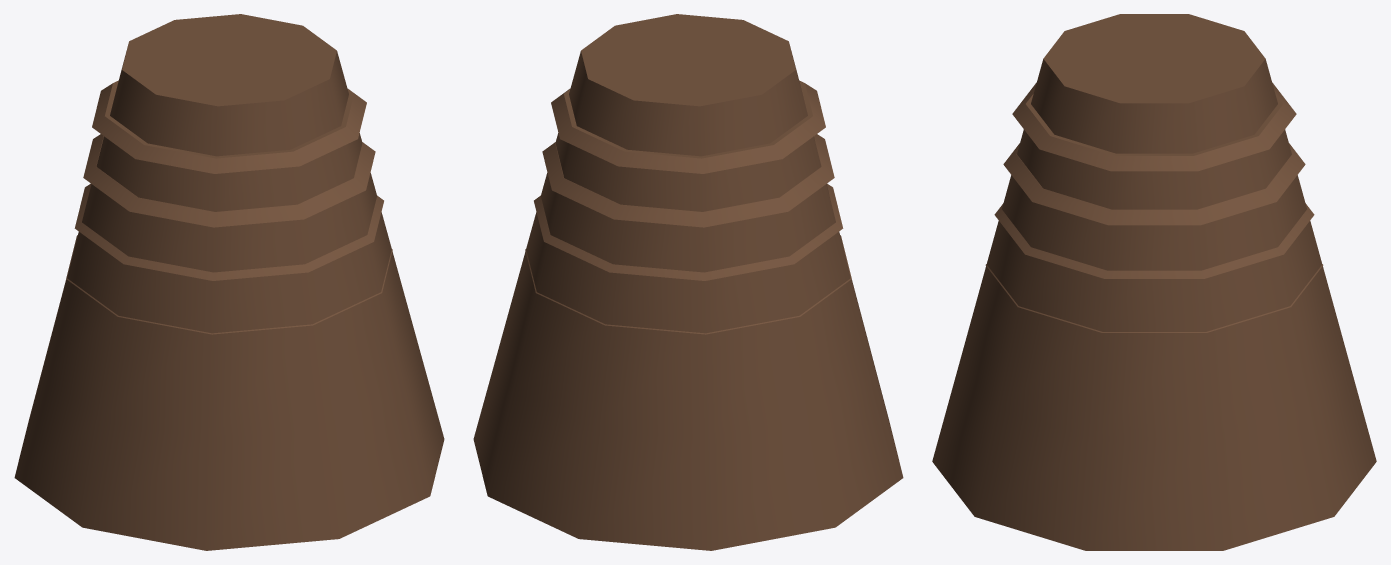
The model's file is stem-palm.glb.
The picture shows the model from 3 angles, left to right: view 1: azimuth 30°, elevation 25°; view 2: azimuth 150°, elevation 25°; view 3: azimuth 270°, elevation 25°; orthographic projection.
Visible parts, largest first — view 1: surface; view 2: surface; view 3: surface.
Part boxes in pixels (left/top/right/bottom): surface: left=14, top=14, right=444, bottom=550; surface: left=473, top=14, right=903, bottom=550; surface: left=932, top=14, right=1376, bottom=550.
Bounding box in the file's own units: 0.9511 × 1 × 1.
